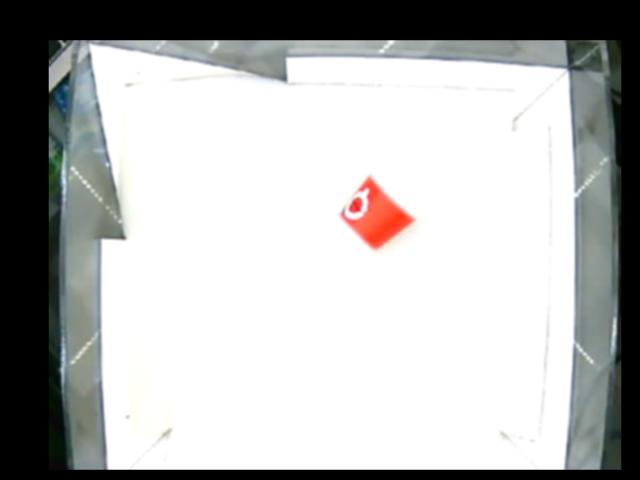Cup: (329, 167, 424, 259)
